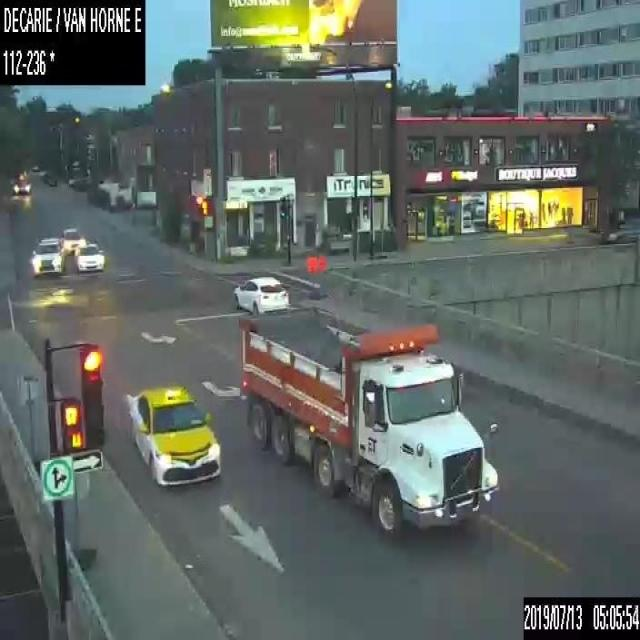construction: (66, 471, 95, 570), (16, 372, 44, 474), (306, 254, 317, 298), (317, 254, 326, 296)
vehicle: (240, 308, 500, 536), (124, 381, 223, 484), (233, 274, 288, 313), (30, 236, 65, 275), (601, 218, 639, 242), (74, 242, 103, 272), (62, 228, 86, 255), (13, 177, 30, 194)
